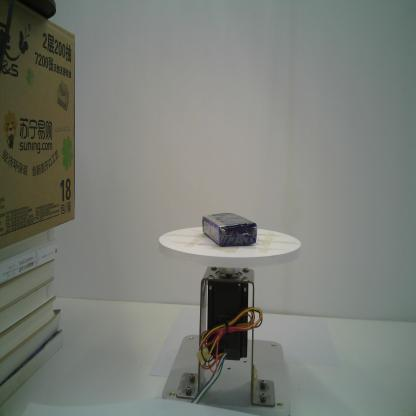Gum: (202, 212, 258, 248)
